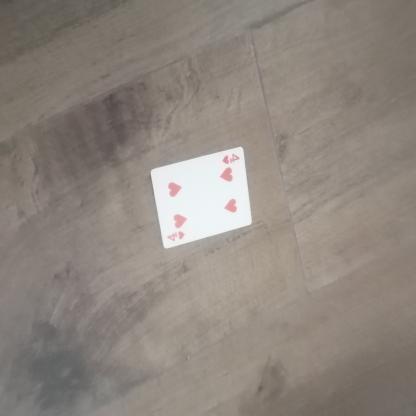4H: (163, 224, 187, 246), (220, 149, 241, 165)
